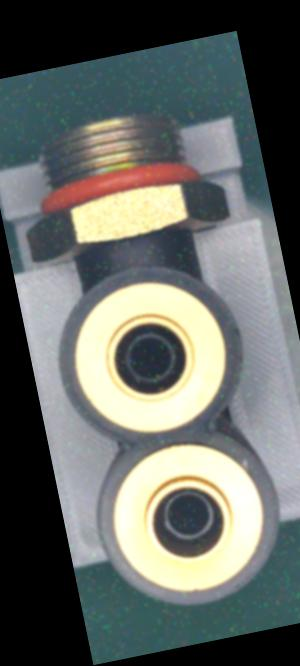white mark: (118, 235, 135, 254)
